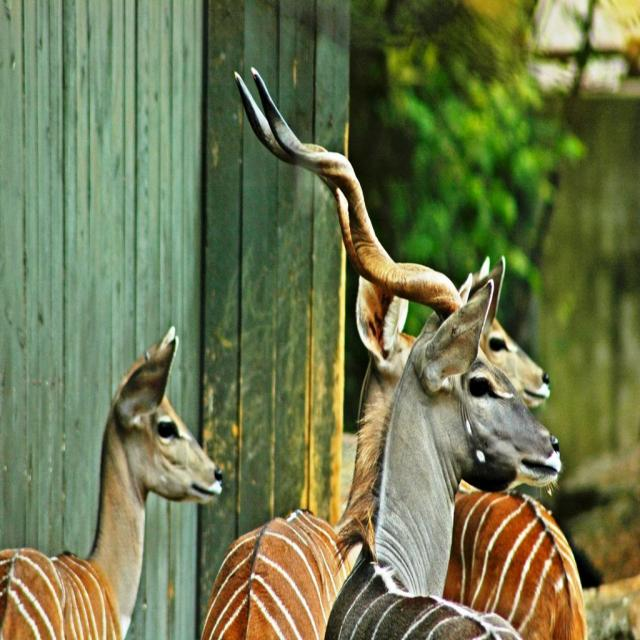Deer: (232, 72, 576, 640), (202, 273, 472, 639), (0, 324, 227, 640), (436, 465, 590, 640)
